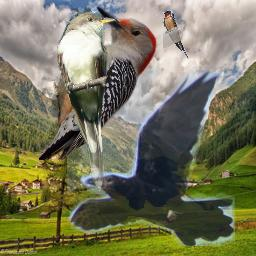Crow: (67, 68, 235, 246)
Cuckoo: (57, 10, 116, 193)
Swallow: (163, 10, 188, 59)
Woodpecker: (39, 7, 157, 160)
